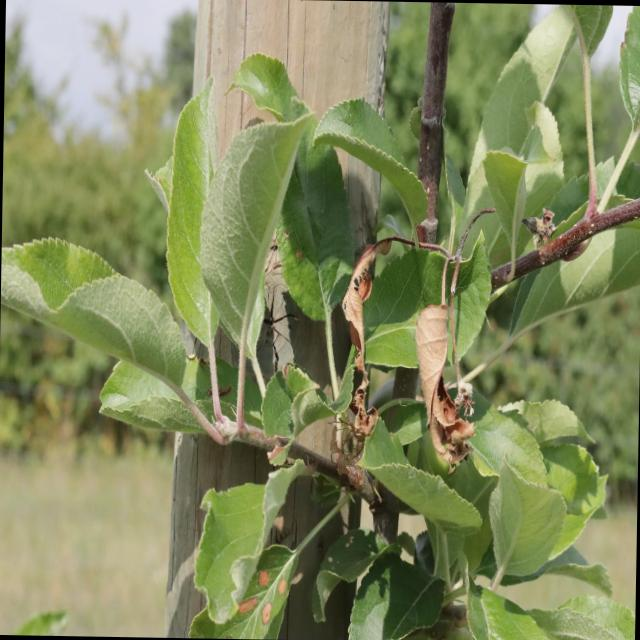-FireBlight-: (346, 244, 490, 458)
